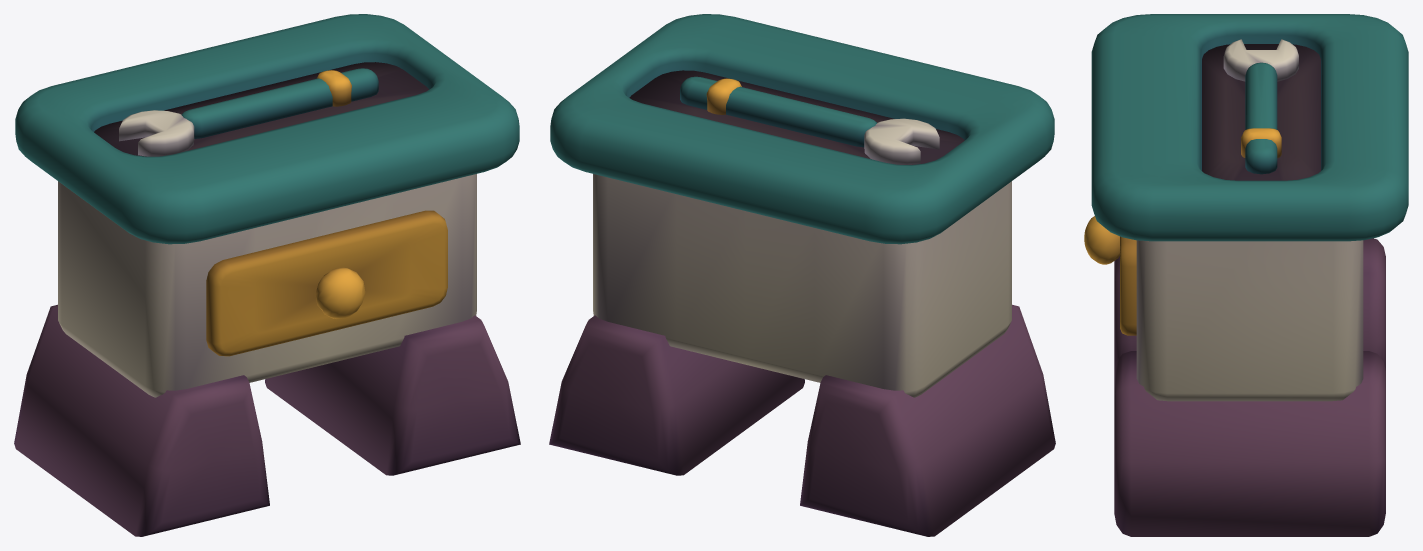
The model's file is gadget-toolbox-stand.glb.
The picture shows the model from 3 angles, left to right: view 1: azimuth 30°, elevation 25°; view 2: azimuth 150°, elevation 25°; view 3: azimuth 270°, elevation 25°; orthographic projection.
Visible parts, largest first — view 1: gadget-toolbox-stand; view 2: gadget-toolbox-stand; view 3: gadget-toolbox-stand.
Boxes of the visible parts, <box> form: gadget-toolbox-stand: <box>14,14,520,536</box>; gadget-toolbox-stand: <box>549,14,1055,536</box>; gadget-toolbox-stand: <box>1084,14,1408,536</box>.
Size of the model in its own units: 1.19 by 1.02 by 0.8591.
